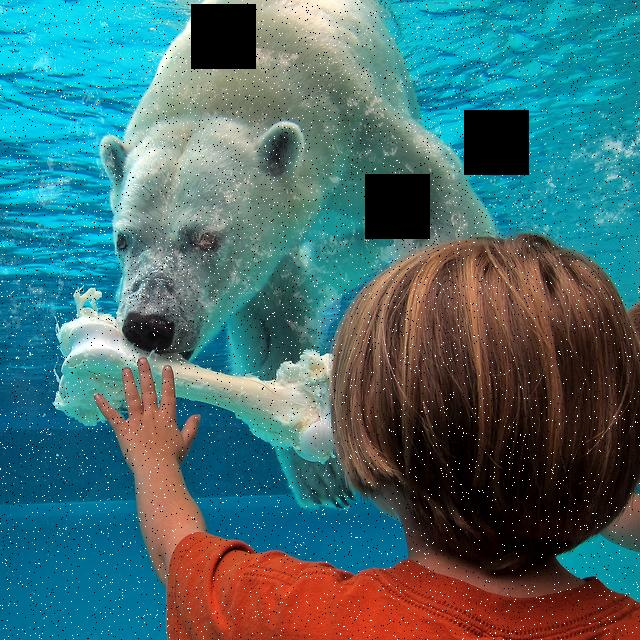Bear: (58, 0, 558, 494)
